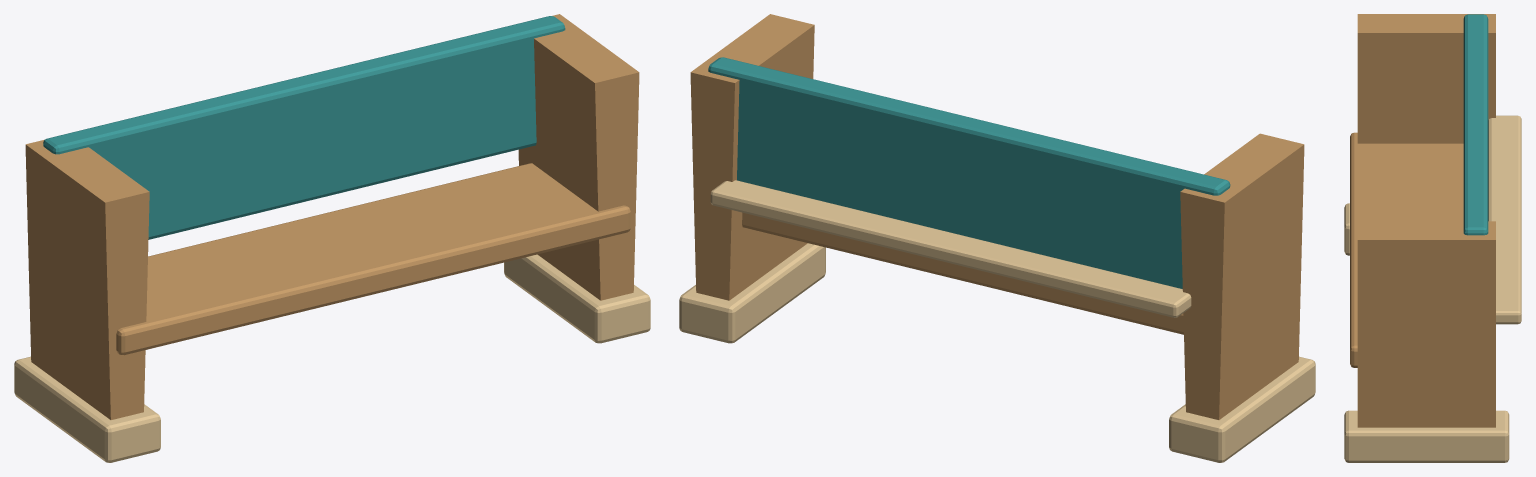
File: S049_church_pew.glb
3 renders of one model, left to right at view 1: azimuth 30°, elevation 25°; view 2: azimuth 150°, elevation 25°; view 3: azimuth 270°, elevation 25°, orthographic. The views are drawn at different scales.
Visible parts, largest first — view 1: pew_back, pew_seat, pew_end, pew_end.001, pew_end_foot, pew_end_foot.001; view 2: pew_back, pew_end, pew_end.001, book_ledge, pew_seat, pew_end_foot, pew_end_foot.001; view 3: pew_end.001, pew_end, pew_seat, pew_end_foot.001, book_ledge, pew_back, pew_end_foot.
Boxes of the visible parts, left/top/right/bottom form: pew_back: left=43, top=16, right=565, bottom=239; pew_seat: left=116, top=163, right=630, bottom=355; pew_end: left=25, top=139, right=149, bottom=419; pew_end.001: left=518, top=14, right=639, bottom=300; pew_end_foot: left=14, top=356, right=160, bottom=462; pew_end_foot.001: left=504, top=254, right=650, bottom=343; pew_back: left=708, top=57, right=1230, bottom=288; pew_end: left=1180, top=133, right=1304, bottom=419; pew_end.001: left=690, top=14, right=814, bottom=300; book_ledge: left=710, top=180, right=1191, bottom=317; pew_seat: left=742, top=212, right=1183, bottom=334; pew_end_foot: left=1169, top=356, right=1315, bottom=462; pew_end_foot.001: left=679, top=243, right=825, bottom=343; pew_end.001: left=1357, top=221, right=1495, bottom=427; pew_end: left=1357, top=14, right=1495, bottom=143; pew_seat: left=1350, top=132, right=1463, bottom=367; pew_end_foot.001: left=1344, top=410, right=1509, bottom=462; book_ledge: left=1488, top=115, right=1521, bottom=324; pew_back: left=1463, top=14, right=1488, bottom=235; pew_end_foot: left=1344, top=203, right=1349, bottom=255.
Size of the model in its own units: 2.45 by 1.13 by 0.795.
